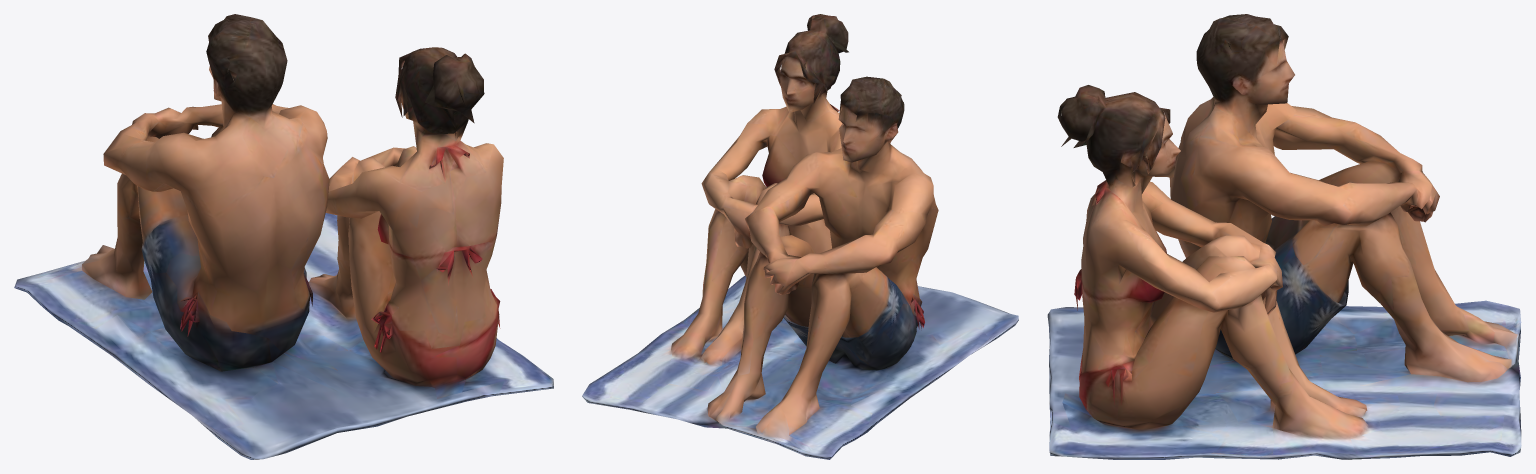
File: zs_paar.glb
3 renders of one model, left to right at view 1: azimuth 30°, elevation 25°; view 2: azimuth 150°, elevation 25°; view 3: azimuth 270°, elevation 25°, orthographic. The views are drawn at different scales.
Parts seen in each view (by area): view 1: tripo_node_28f8168a-926d-484f-8cde-8a3c134308b8; view 2: tripo_node_28f8168a-926d-484f-8cde-8a3c134308b8; view 3: tripo_node_28f8168a-926d-484f-8cde-8a3c134308b8.
Part boxes in pixels (left/top/right/bottom): tripo_node_28f8168a-926d-484f-8cde-8a3c134308b8: left=14, top=14, right=553, bottom=459; tripo_node_28f8168a-926d-484f-8cde-8a3c134308b8: left=582, top=14, right=1018, bottom=459; tripo_node_28f8168a-926d-484f-8cde-8a3c134308b8: left=1047, top=14, right=1521, bottom=459.
Size of the model in its own units: 0.7419 by 0.7886 by 1.
Materials: 1 (1 with a texture image).
